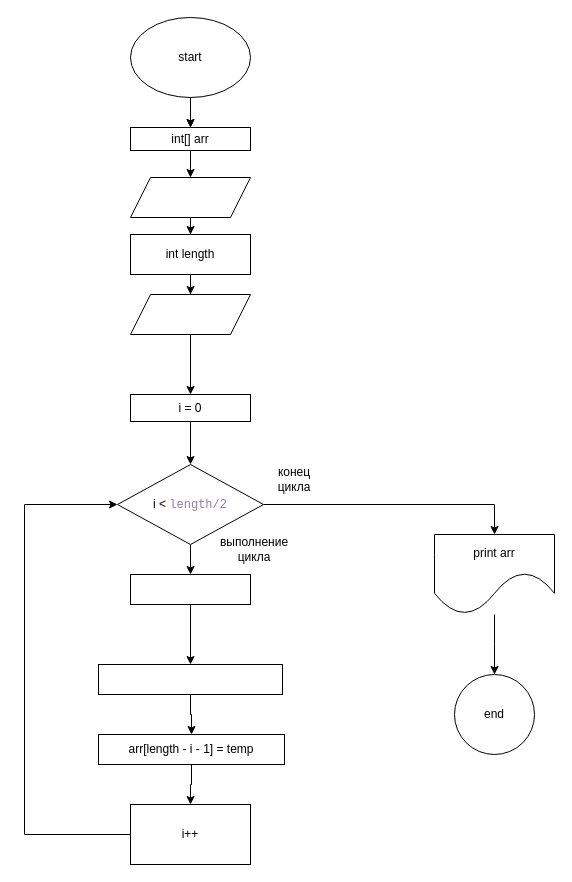
Some shapes in this 572 by 882 pixel diagram are drawn without their labels. The shapes that lost their labels are listed below. From the top down, each one's box as (x1, y1, x2, y2) in pixels, then its label:
(130, 176, 250, 218): int[] arr= {1 ,2, 3}
(130, 294, 250, 334): int length = arr.length
(130, 574, 250, 604): int temp = arr[i]
(98, 664, 282, 694): arr[i] = arr[length - i -1]
